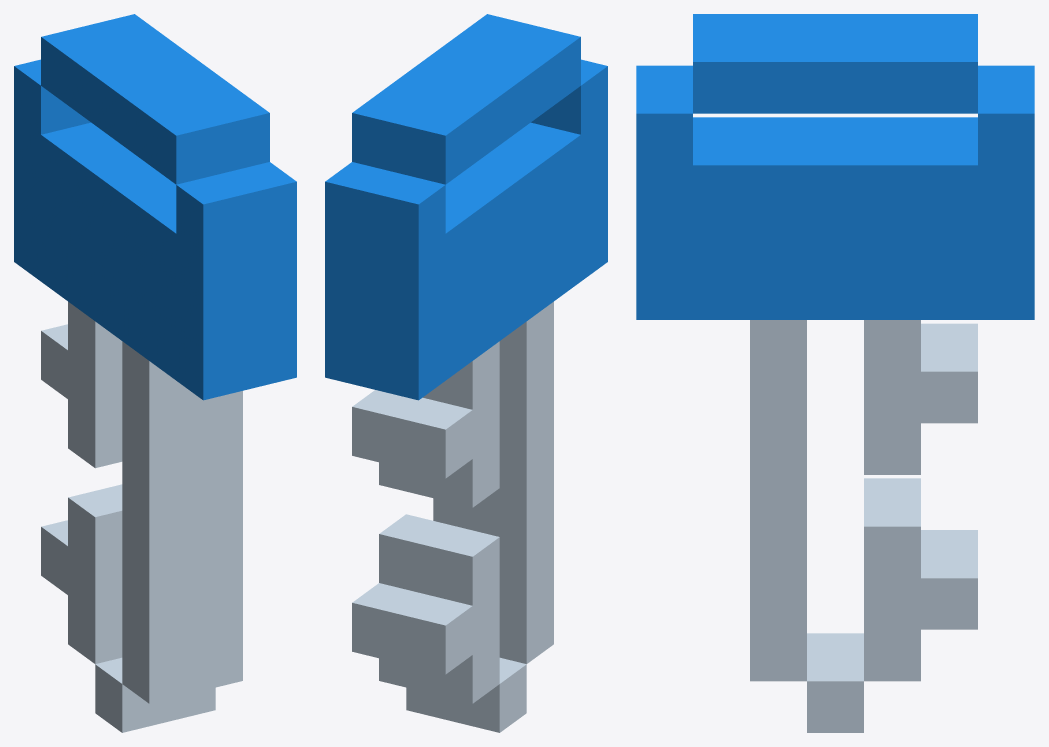
Rendered from Keys PacMan.fbx.
The picture shows the model from 3 angles, left to right: view 1: azimuth 30°, elevation 25°; view 2: azimuth 150°, elevation 25°; view 3: azimuth 270°, elevation 25°; orthographic projection. The views are drawn at different scales.
Parts seen in each view (by area): view 1: polySurface11; view 2: polySurface11; view 3: polySurface11.
Boxes of the visible parts, x1,y1,x2,y2 form: polySurface11: (14, 14, 296, 732); polySurface11: (325, 14, 607, 732); polySurface11: (636, 14, 1034, 732).
Size of the model in its own units: 0.02 by 0.13 by 0.07.
